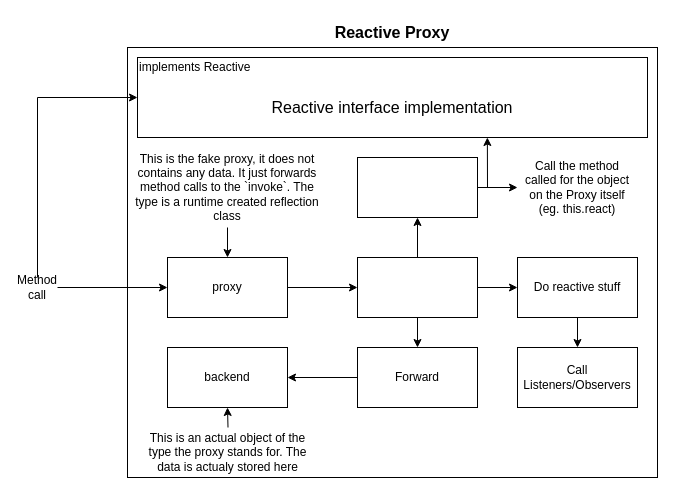
The diagram is 675 pixels wide and 495 high, and some of its shapes have lost their labels. The shapes that lost their labels are listed below. From the top down, each one's box as (x1, y1, x2, y2) in pixels, then its label:
(356, 156, 478, 218): if( method from ProxySubject )
(356, 256, 478, 318): invoke() Method
